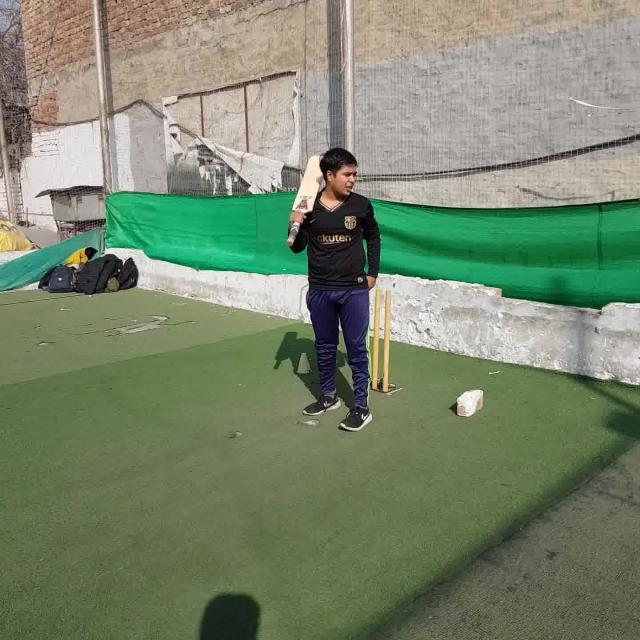bat: (286, 153, 326, 246)
